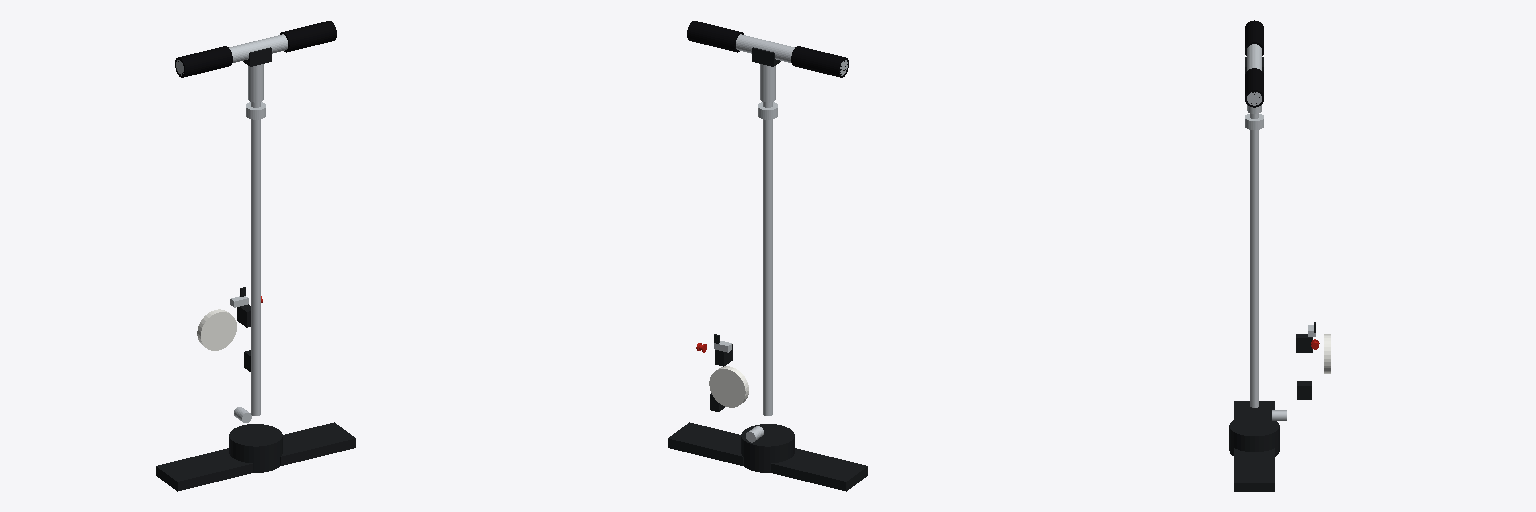
The robot description file, URDF, robot "service_station_floor_pump":
<robot name="service_station_floor_pump">
  <material name="body_black">
    <color rgba="0.14 0.15 0.16 1" />
    </material>
  <material name="satin_steel">
    <color rgba="0.77 0.79 0.81 1" />
    </material>
  <material name="rubber_black">
    <color rgba="0.08 0.08 0.09 1" />
    </material>
  <material name="dial_white">
    <color rgba="0.95 0.95 0.93 1" />
    </material>
  <material name="warning_orange">
    <color rgba="0.96 0.45 0.12 1" />
    </material>
  <material name="release_red">
    <color rgba="0.78 0.16 0.12 1" />
    </material>
  <link name="body">
    <visual name="base_hub">
      <origin xyz="0 0 0.025" rpy="0 0 0" />
      <geometry>
        <cylinder radius="0.046" length="0.05" />
        </geometry>
      <material name="body_black">
        <color rgba="0.14 0.15 0.16 1" />
        </material>
      </visual>
    <visual name="foot_pad_0">
      <origin xyz="-0.102 0 0.009" rpy="0 0 0" />
      <geometry>
        <box size="0.15 0.075 0.018" />
        </geometry>
      <material name="body_black">
        <color rgba="0.14 0.15 0.16 1" />
        </material>
      </visual>
    <visual name="foot_pad_1">
      <origin xyz="0.102 0 0.009" rpy="0 0 0" />
      <geometry>
        <box size="0.15 0.075 0.018" />
        </geometry>
      <material name="body_black">
        <color rgba="0.14 0.15 0.16 1" />
        </material>
      </visual>
    <visual name="barrel_shell">
      <origin xyz="0 0 0.05" rpy="0 0 0" />
      <geometry>
        <mesh filename="assets/meshes/pump_barrel_shell.obj" />
        </geometry>
      <material name="body_black">
        <color rgba="0.14 0.15 0.16 1" />
        </material>
      </visual>
    <visual name="guide_ring">
      <origin xyz="0 0 0.625" rpy="0 0 0" />
      <geometry>
        <mesh filename="assets/meshes/pump_guide_ring.obj" />
        </geometry>
      <material name="satin_steel">
        <color rgba="0.77 0.79 0.81 1" />
        </material>
      </visual>
    <visual name="gauge_bracket">
      <origin xyz="0 0.057 0.195" rpy="0 0 0" />
      <geometry>
        <mesh filename="assets/meshes/gauge_bracket.obj" />
        </geometry>
      <material name="body_black">
        <color rgba="0.14 0.15 0.16 1" />
        </material>
      </visual>
    <visual name="gauge_housing">
      <origin xyz="0 0.114 0.195" rpy="0 0 0" />
      <geometry>
        <mesh filename="assets/meshes/gauge_housing.obj" />
        </geometry>
      <material name="body_black">
        <color rgba="0.14 0.15 0.16 1" />
        </material>
      </visual>
    <visual name="gauge_bezel">
      <origin xyz="0 0.139 0.195" rpy="-1.5708 0 0" />
      <geometry>
        <mesh filename="assets/meshes/gauge_bezel_ring.obj" />
        </geometry>
      <material name="satin_steel">
        <color rgba="0.77 0.79 0.81 1" />
        </material>
      </visual>
    <visual name="dial_face">
      <origin xyz="0 0.133 0.195" rpy="-1.5708 0 0" />
      <geometry>
        <cylinder radius="0.036" length="0.012" />
        </geometry>
      <material name="dial_white">
        <color rgba="0.95 0.95 0.93 1" />
        </material>
      </visual>
    <visual name="button_guide">
      <origin xyz="0.055 0.111 0.245" rpy="0 1.5708 0" />
      <geometry>
        <mesh filename="assets/meshes/release_button_guide.obj" />
        </geometry>
      <material name="satin_steel">
        <color rgba="0.77 0.79 0.81 1" />
        </material>
      </visual>
    <visual name="hose_port">
      <origin xyz="0 0.045 0.07" rpy="-1.5708 0 0" />
      <geometry>
        <cylinder radius="0.01" length="0.028" />
        </geometry>
      <material name="satin_steel">
        <color rgba="0.77 0.79 0.81 1" />
        </material>
      </visual>
    <visual name="hose">
      <geometry>
        <mesh filename="assets/meshes/parked_hose.obj" />
        </geometry>
      <material name="rubber_black">
        <color rgba="0.08 0.08 0.09 1" />
        </material>
      </visual>
    <visual name="lower_clip">
      <origin xyz="0.046 0.091 0.142" rpy="0 0 0" />
      <geometry>
        <box size="0.018 0.028 0.03" />
        </geometry>
      <material name="body_black">
        <color rgba="0.14 0.15 0.16 1" />
        </material>
      </visual>
    <visual name="upper_clip">
      <origin xyz="0.034 0.091 0.232" rpy="0 0 0" />
      <geometry>
        <box size="0.018 0.032 0.03" />
        </geometry>
      <material name="body_black">
        <color rgba="0.14 0.15 0.16 1" />
        </material>
      </visual>
    <visual name="hose_head">
      <origin xyz="0.028 0.105 0.254" rpy="0 0 0" />
      <geometry>
        <box size="0.028 0.014 0.012" />
        </geometry>
      <material name="satin_steel">
        <color rgba="0.77 0.79 0.81 1" />
        </material>
      </visual>
    <visual name="hose_head_lever">
      <origin xyz="0.038 0.11 0.266" rpy="0 0 0" />
      <geometry>
        <box size="0.01 0.004 0.018" />
        </geometry>
      <material name="body_black">
        <color rgba="0.14 0.15 0.16 1" />
        </material>
      </visual>
    <collision name="base_hub">
      <origin xyz="0 0 0.025" rpy="0 0 0" />
      <geometry>
        <cylinder radius="0.046" length="0.05" />
        </geometry>
      </collision>
    <collision name="foot_pad_0">
      <origin xyz="-0.102 0 0.009" rpy="0 0 0" />
      <geometry>
        <box size="0.15 0.075 0.018" />
        </geometry>
      </collision>
    <collision name="foot_pad_1">
      <origin xyz="0.102 0 0.009" rpy="0 0 0" />
      <geometry>
        <box size="0.15 0.075 0.018" />
        </geometry>
      </collision>
    <collision name="barrel_shell">
      <origin xyz="0 0 0.05" rpy="0 0 0" />
      <geometry>
        <mesh filename="assets/meshes/pump_barrel_shell.obj" />
        </geometry>
      </collision>
    <collision name="guide_ring">
      <origin xyz="0 0 0.625" rpy="0 0 0" />
      <geometry>
        <mesh filename="assets/meshes/pump_guide_ring.obj" />
        </geometry>
      </collision>
    <collision name="gauge_bracket">
      <origin xyz="0 0.057 0.195" rpy="0 0 0" />
      <geometry>
        <mesh filename="assets/meshes/gauge_bracket.obj" />
        </geometry>
      </collision>
    <collision name="gauge_housing">
      <origin xyz="0 0.114 0.195" rpy="0 0 0" />
      <geometry>
        <mesh filename="assets/meshes/gauge_housing.obj" />
        </geometry>
      </collision>
    <collision name="gauge_bezel">
      <origin xyz="0 0.139 0.195" rpy="-1.5708 0 0" />
      <geometry>
        <mesh filename="assets/meshes/gauge_bezel_ring.obj" />
        </geometry>
      </collision>
    <collision name="dial_face">
      <origin xyz="0 0.133 0.195" rpy="-1.5708 0 0" />
      <geometry>
        <cylinder radius="0.036" length="0.012" />
        </geometry>
      </collision>
    <collision name="button_guide">
      <origin xyz="0.055 0.111 0.245" rpy="0 1.5708 0" />
      <geometry>
        <mesh filename="assets/meshes/release_button_guide.obj" />
        </geometry>
      </collision>
    <collision name="hose_port">
      <origin xyz="0 0.045 0.07" rpy="-1.5708 0 0" />
      <geometry>
        <cylinder radius="0.01" length="0.028" />
        </geometry>
      </collision>
    <collision name="hose">
      <geometry>
        <mesh filename="assets/meshes/parked_hose.obj" />
        </geometry>
      </collision>
    <collision name="lower_clip">
      <origin xyz="0.046 0.091 0.142" rpy="0 0 0" />
      <geometry>
        <box size="0.018 0.028 0.03" />
        </geometry>
      </collision>
    <collision name="upper_clip">
      <origin xyz="0.034 0.091 0.232" rpy="0 0 0" />
      <geometry>
        <box size="0.018 0.032 0.03" />
        </geometry>
      </collision>
    <collision name="hose_head">
      <origin xyz="0.028 0.105 0.254" rpy="0 0 0" />
      <geometry>
        <box size="0.028 0.014 0.012" />
        </geometry>
      </collision>
    <collision name="hose_head_lever">
      <origin xyz="0.038 0.11 0.266" rpy="0 0 0" />
      <geometry>
        <box size="0.01 0.004 0.018" />
        </geometry>
      </collision>
    </link>
  <link name="plunger">
    <visual name="piston_rod">
      <origin xyz="0 0 -0.255" rpy="0 0 0" />
      <geometry>
        <cylinder radius="0.0085" length="0.62" />
        </geometry>
      <material name="satin_steel">
        <color rgba="0.77 0.79 0.81 1" />
        </material>
      </visual>
    <visual name="handle_stem">
      <origin xyz="0 0 0.08" rpy="0 0 0" />
      <geometry>
        <cylinder radius="0.013" length="0.1" />
        </geometry>
      <material name="satin_steel">
        <color rgba="0.77 0.79 0.81 1" />
        </material>
      </visual>
    <visual name="guide_collar">
      <origin xyz="0 0 0.009" rpy="0 0 0" />
      <geometry>
        <cylinder radius="0.018" length="0.018" />
        </geometry>
      <material name="satin_steel">
        <color rgba="0.77 0.79 0.81 1" />
        </material>
      </visual>
    <visual name="handle_center">
      <origin xyz="0 0 0.116" rpy="0 0 0" />
      <geometry>
        <box size="0.042 0.034 0.026" />
        </geometry>
      <material name="body_black">
        <color rgba="0.14 0.15 0.16 1" />
        </material>
      </visual>
    <visual name="handle_bar">
      <origin xyz="0 0 0.125" rpy="0 1.5708 0" />
      <geometry>
        <cylinder radius="0.014" length="0.3" />
        </geometry>
      <material name="satin_steel">
        <color rgba="0.77 0.79 0.81 1" />
        </material>
      </visual>
    <visual name="grip_0">
      <origin xyz="-0.103 0 0.125" rpy="0 1.5708 0" />
      <geometry>
        <cylinder radius="0.018" length="0.094" />
        </geometry>
      <material name="rubber_black">
        <color rgba="0.08 0.08 0.09 1" />
        </material>
      </visual>
    <visual name="grip_1">
      <origin xyz="0.103 0 0.125" rpy="0 1.5708 0" />
      <geometry>
        <cylinder radius="0.018" length="0.094" />
        </geometry>
      <material name="rubber_black">
        <color rgba="0.08 0.08 0.09 1" />
        </material>
      </visual>
    <collision name="piston_rod">
      <origin xyz="0 0 -0.255" rpy="0 0 0" />
      <geometry>
        <cylinder radius="0.0085" length="0.62" />
        </geometry>
      </collision>
    <collision name="handle_stem">
      <origin xyz="0 0 0.08" rpy="0 0 0" />
      <geometry>
        <cylinder radius="0.013" length="0.1" />
        </geometry>
      </collision>
    <collision name="guide_collar">
      <origin xyz="0 0 0.009" rpy="0 0 0" />
      <geometry>
        <cylinder radius="0.018" length="0.018" />
        </geometry>
      </collision>
    <collision name="handle_center">
      <origin xyz="0 0 0.116" rpy="0 0 0" />
      <geometry>
        <box size="0.042 0.034 0.026" />
        </geometry>
      </collision>
    <collision name="handle_bar">
      <origin xyz="0 0 0.125" rpy="0 1.5708 0" />
      <geometry>
        <cylinder radius="0.014" length="0.3" />
        </geometry>
      </collision>
    <collision name="grip_0">
      <origin xyz="-0.103 0 0.125" rpy="0 1.5708 0" />
      <geometry>
        <cylinder radius="0.018" length="0.094" />
        </geometry>
      </collision>
    <collision name="grip_1">
      <origin xyz="0.103 0 0.125" rpy="0 1.5708 0" />
      <geometry>
        <cylinder radius="0.018" length="0.094" />
        </geometry>
      </collision>
    </link>
  <link name="gauge_needle">
    <visual name="needle_hub">
      <origin xyz="0 0 0" rpy="-1.5708 0 0" />
      <geometry>
        <cylinder radius="0.0042" length="0.004" />
        </geometry>
      <material name="satin_steel">
        <color rgba="0.77 0.79 0.81 1" />
        </material>
      </visual>
    <visual name="needle_pointer">
      <origin xyz="0.015 0 0" rpy="0 0 0" />
      <geometry>
        <box size="0.03 0.0024 0.0045" />
        </geometry>
      <material name="warning_orange">
        <color rgba="0.96 0.45 0.12 1" />
        </material>
      </visual>
    <visual name="needle_tail">
      <origin xyz="-0.006 0 0" rpy="0 0 0" />
      <geometry>
        <box size="0.008 0.0024 0.003" />
        </geometry>
      <material name="warning_orange">
        <color rgba="0.96 0.45 0.12 1" />
        </material>
      </visual>
    <collision name="needle_hub">
      <origin xyz="0 0 0" rpy="-1.5708 0 0" />
      <geometry>
        <cylinder radius="0.0042" length="0.004" />
        </geometry>
      </collision>
    <collision name="needle_pointer">
      <origin xyz="0.015 0 0" rpy="0 0 0" />
      <geometry>
        <box size="0.03 0.0024 0.0045" />
        </geometry>
      </collision>
    <collision name="needle_tail">
      <origin xyz="-0.006 0 0" rpy="0 0 0" />
      <geometry>
        <box size="0.008 0.0024 0.003" />
        </geometry>
      </collision>
    </link>
  <link name="release_button">
    <visual name="button_shaft">
      <origin xyz="0.005 0 0" rpy="0 1.5708 0" />
      <geometry>
        <cylinder radius="0.0048" length="0.01" />
        </geometry>
      <material name="release_red">
        <color rgba="0.78 0.16 0.12 1" />
        </material>
      </visual>
    <visual name="button_flange">
      <origin xyz="0.001 0 0" rpy="0 1.5708 0" />
      <geometry>
        <cylinder radius="0.0078" length="0.002" />
        </geometry>
      <material name="release_red">
        <color rgba="0.78 0.16 0.12 1" />
        </material>
      </visual>
    <visual name="button_cap">
      <origin xyz="0.0105 0 0" rpy="0 1.5708 0" />
      <geometry>
        <cylinder radius="0.0072" length="0.004" />
        </geometry>
      <material name="release_red">
        <color rgba="0.78 0.16 0.12 1" />
        </material>
      </visual>
    <collision name="button_shaft">
      <origin xyz="0.005 0 0" rpy="0 1.5708 0" />
      <geometry>
        <cylinder radius="0.0048" length="0.01" />
        </geometry>
      </collision>
    <collision name="button_flange">
      <origin xyz="0.001 0 0" rpy="0 1.5708 0" />
      <geometry>
        <cylinder radius="0.0078" length="0.002" />
        </geometry>
      </collision>
    <collision name="button_cap">
      <origin xyz="0.0105 0 0" rpy="0 1.5708 0" />
      <geometry>
        <cylinder radius="0.0072" length="0.004" />
        </geometry>
      </collision>
    </link>
  <joint name="body_to_plunger" type="prismatic">
    <origin xyz="0 0 0.655" rpy="0 0 0" />
    <parent link="body" />
    <child link="plunger" />
    <axis xyz="0 0 1" />
    <limit effort="120" velocity="0.8" lower="0" upper="0.28" />
    </joint>
  <joint name="body_to_gauge_needle" type="continuous">
    <origin xyz="0 0.1365 0.195" rpy="0 0 0" />
    <parent link="body" />
    <child link="gauge_needle" />
    <axis xyz="0 1 0" />
    <limit effort="0.2" velocity="10" />
    </joint>
  <joint name="body_to_release_button" type="prismatic">
    <origin xyz="0.061 0.111 0.245" rpy="0 0 0" />
    <parent link="body" />
    <child link="release_button" />
    <axis xyz="-1 0 0" />
    <limit effort="5" velocity="0.08" lower="0" upper="0.0055" />
    </joint>
  </robot>

--- Facts derived from the render (not from the file) ---
3 views of the same robot in one strip: view 1: azimuth 30°, elevation 25°; view 2: azimuth 150°, elevation 25°; view 3: azimuth 270°, elevation 25° (orthographic).
Robot: service_station_floor_pump — 4 links, 3 joints (1 continuous, 2 prismatic); root link body; default pose: all joints at 0.
Links seen in each view (by area): view 1: body, plunger; view 2: body, plunger; view 3: body, plunger.
Boxes of the visible links, x1,y1,x2,y2 form: body: (156, 287, 355, 491); plunger: (175, 21, 336, 415); body: (668, 334, 867, 491); plunger: (687, 21, 848, 415); body: (1229, 322, 1330, 491); plunger: (1245, 20, 1263, 407).
Size in the robot's own frame: 0.354 by 0.185 by 0.798 metres.
0 mesh visuals loaded from 7 distinct referenced files (none loaded); not drawn: 7 (reference not matched to a file when rendering).
